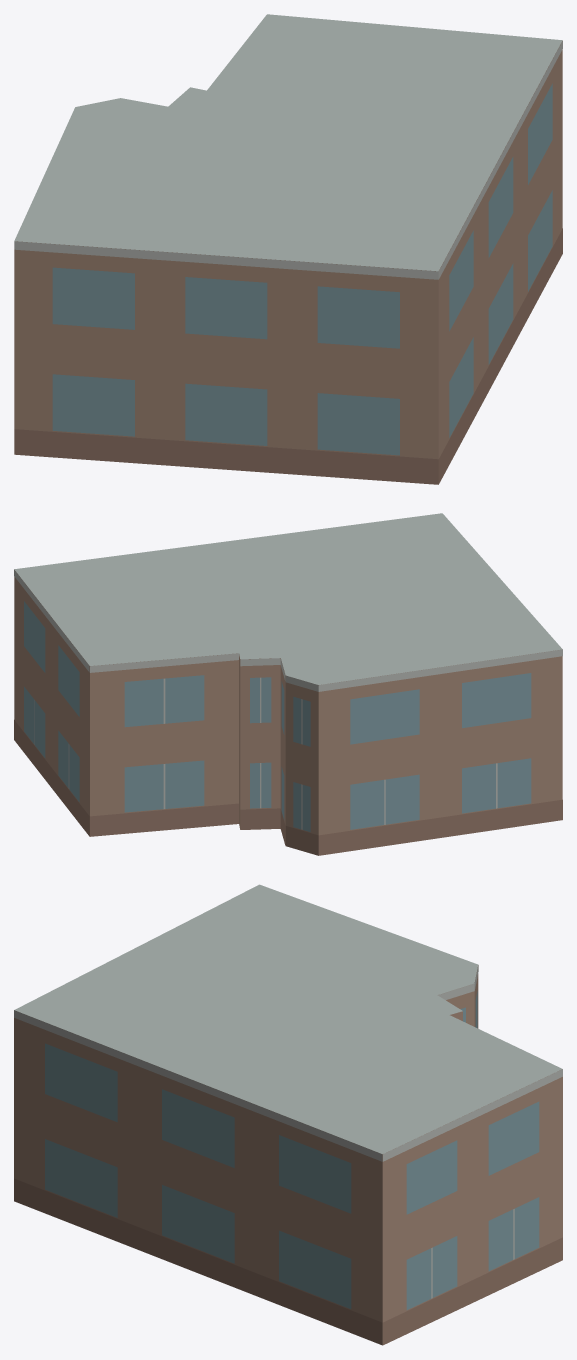
The model's file is survey-upis-32765454.glb.
3 views of the same model, one above another, from view 1: azimuth 30°, elevation 25°; view 2: azimuth 150°, elevation 25°; view 3: azimuth 270°, elevation 25° (orthographic). The views are drawn at different scales.
Visible parts, largest first — view 1: survey-upis-32765454.tmp; view 2: survey-upis-32765454.tmp; view 3: survey-upis-32765454.tmp.
Part boxes in pixels (x1,y1,x2,y2): survey-upis-32765454.tmp: [14, 14, 562, 484]; survey-upis-32765454.tmp: [14, 513, 562, 855]; survey-upis-32765454.tmp: [14, 884, 562, 1345].
Size of the model in its own units: 18.47 by 6.1 by 15.88.
